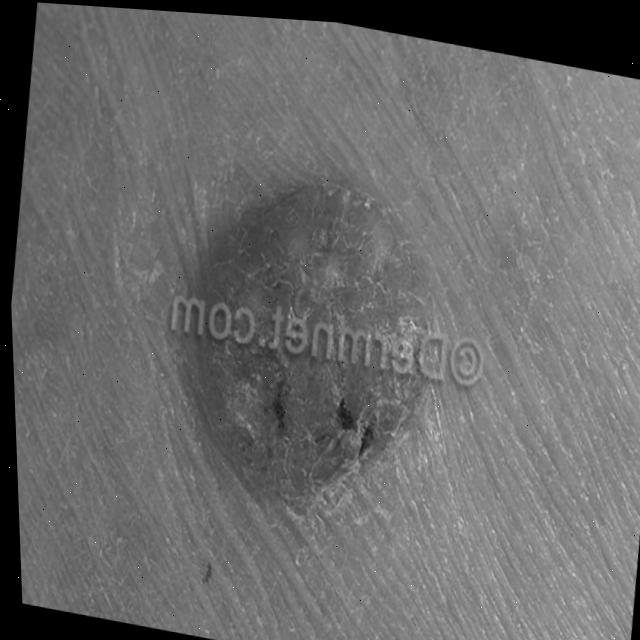Eczema: (169, 140, 541, 553)
